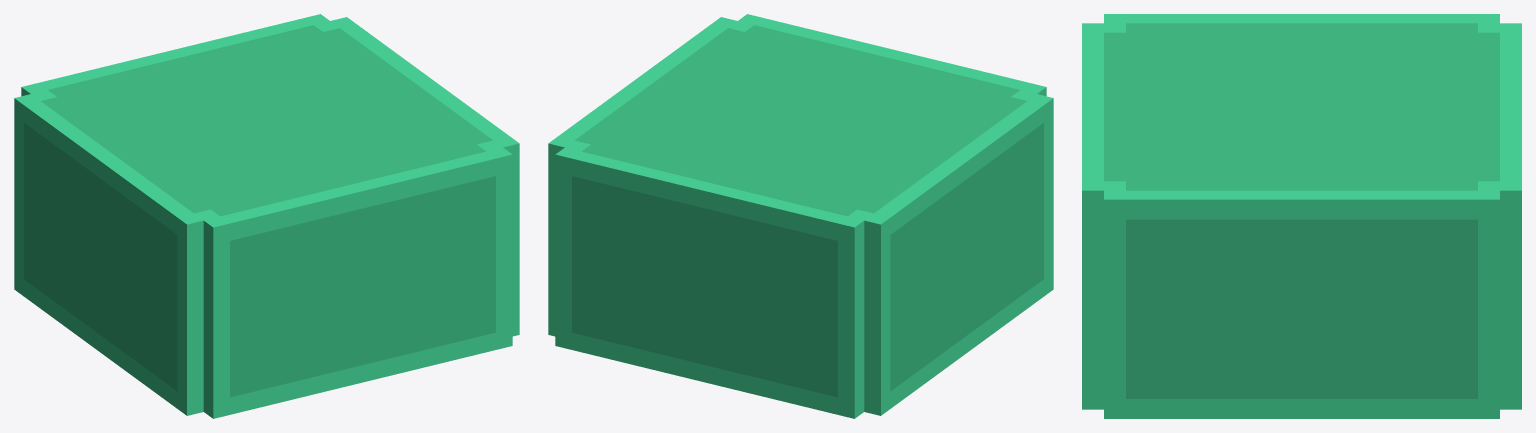
Rendered from Floor.obj.
3 renders of one model, left to right at view 1: azimuth 30°, elevation 25°; view 2: azimuth 150°, elevation 25°; view 3: azimuth 270°, elevation 25°, orthographic. The views are drawn at different scales.
Size of the model in its own units: 2 by 1.1 by 2.
